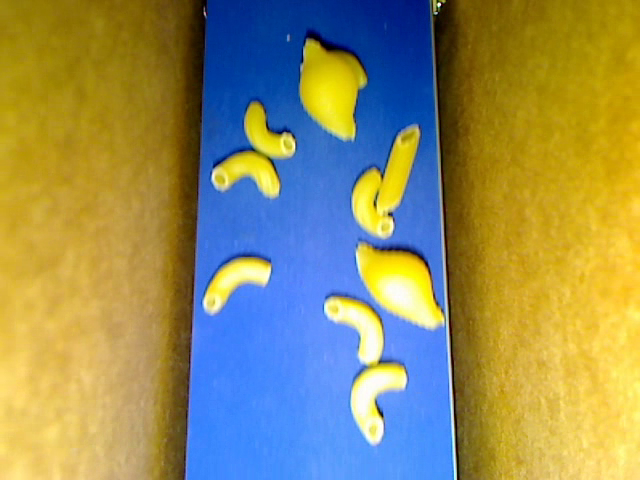elbow: (350, 362, 410, 446), (322, 293, 383, 367), (201, 255, 271, 316), (210, 151, 282, 199), (350, 165, 395, 239), (244, 101, 296, 159), (299, 52, 368, 91)
penne: (375, 124, 421, 214)
shell: (354, 240, 443, 333), (300, 37, 359, 142)
